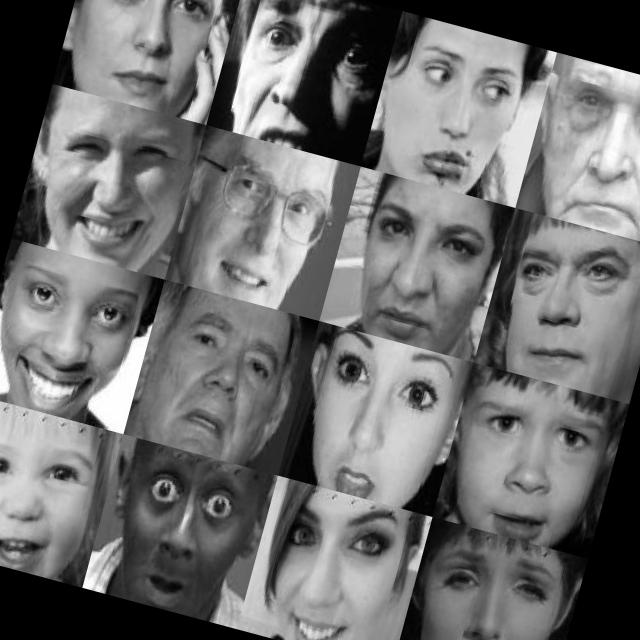angry: (482, 225, 640, 387)
fear: (105, 448, 276, 618), (223, 0, 393, 159)
happy: (170, 146, 338, 316), (23, 104, 190, 266), (0, 248, 135, 429), (252, 493, 410, 640), (0, 409, 114, 584)
neutral: (277, 324, 461, 512), (366, 21, 532, 193), (324, 180, 488, 343), (526, 54, 640, 237), (61, 0, 232, 109)
sad: (448, 380, 600, 546), (413, 532, 571, 640)
